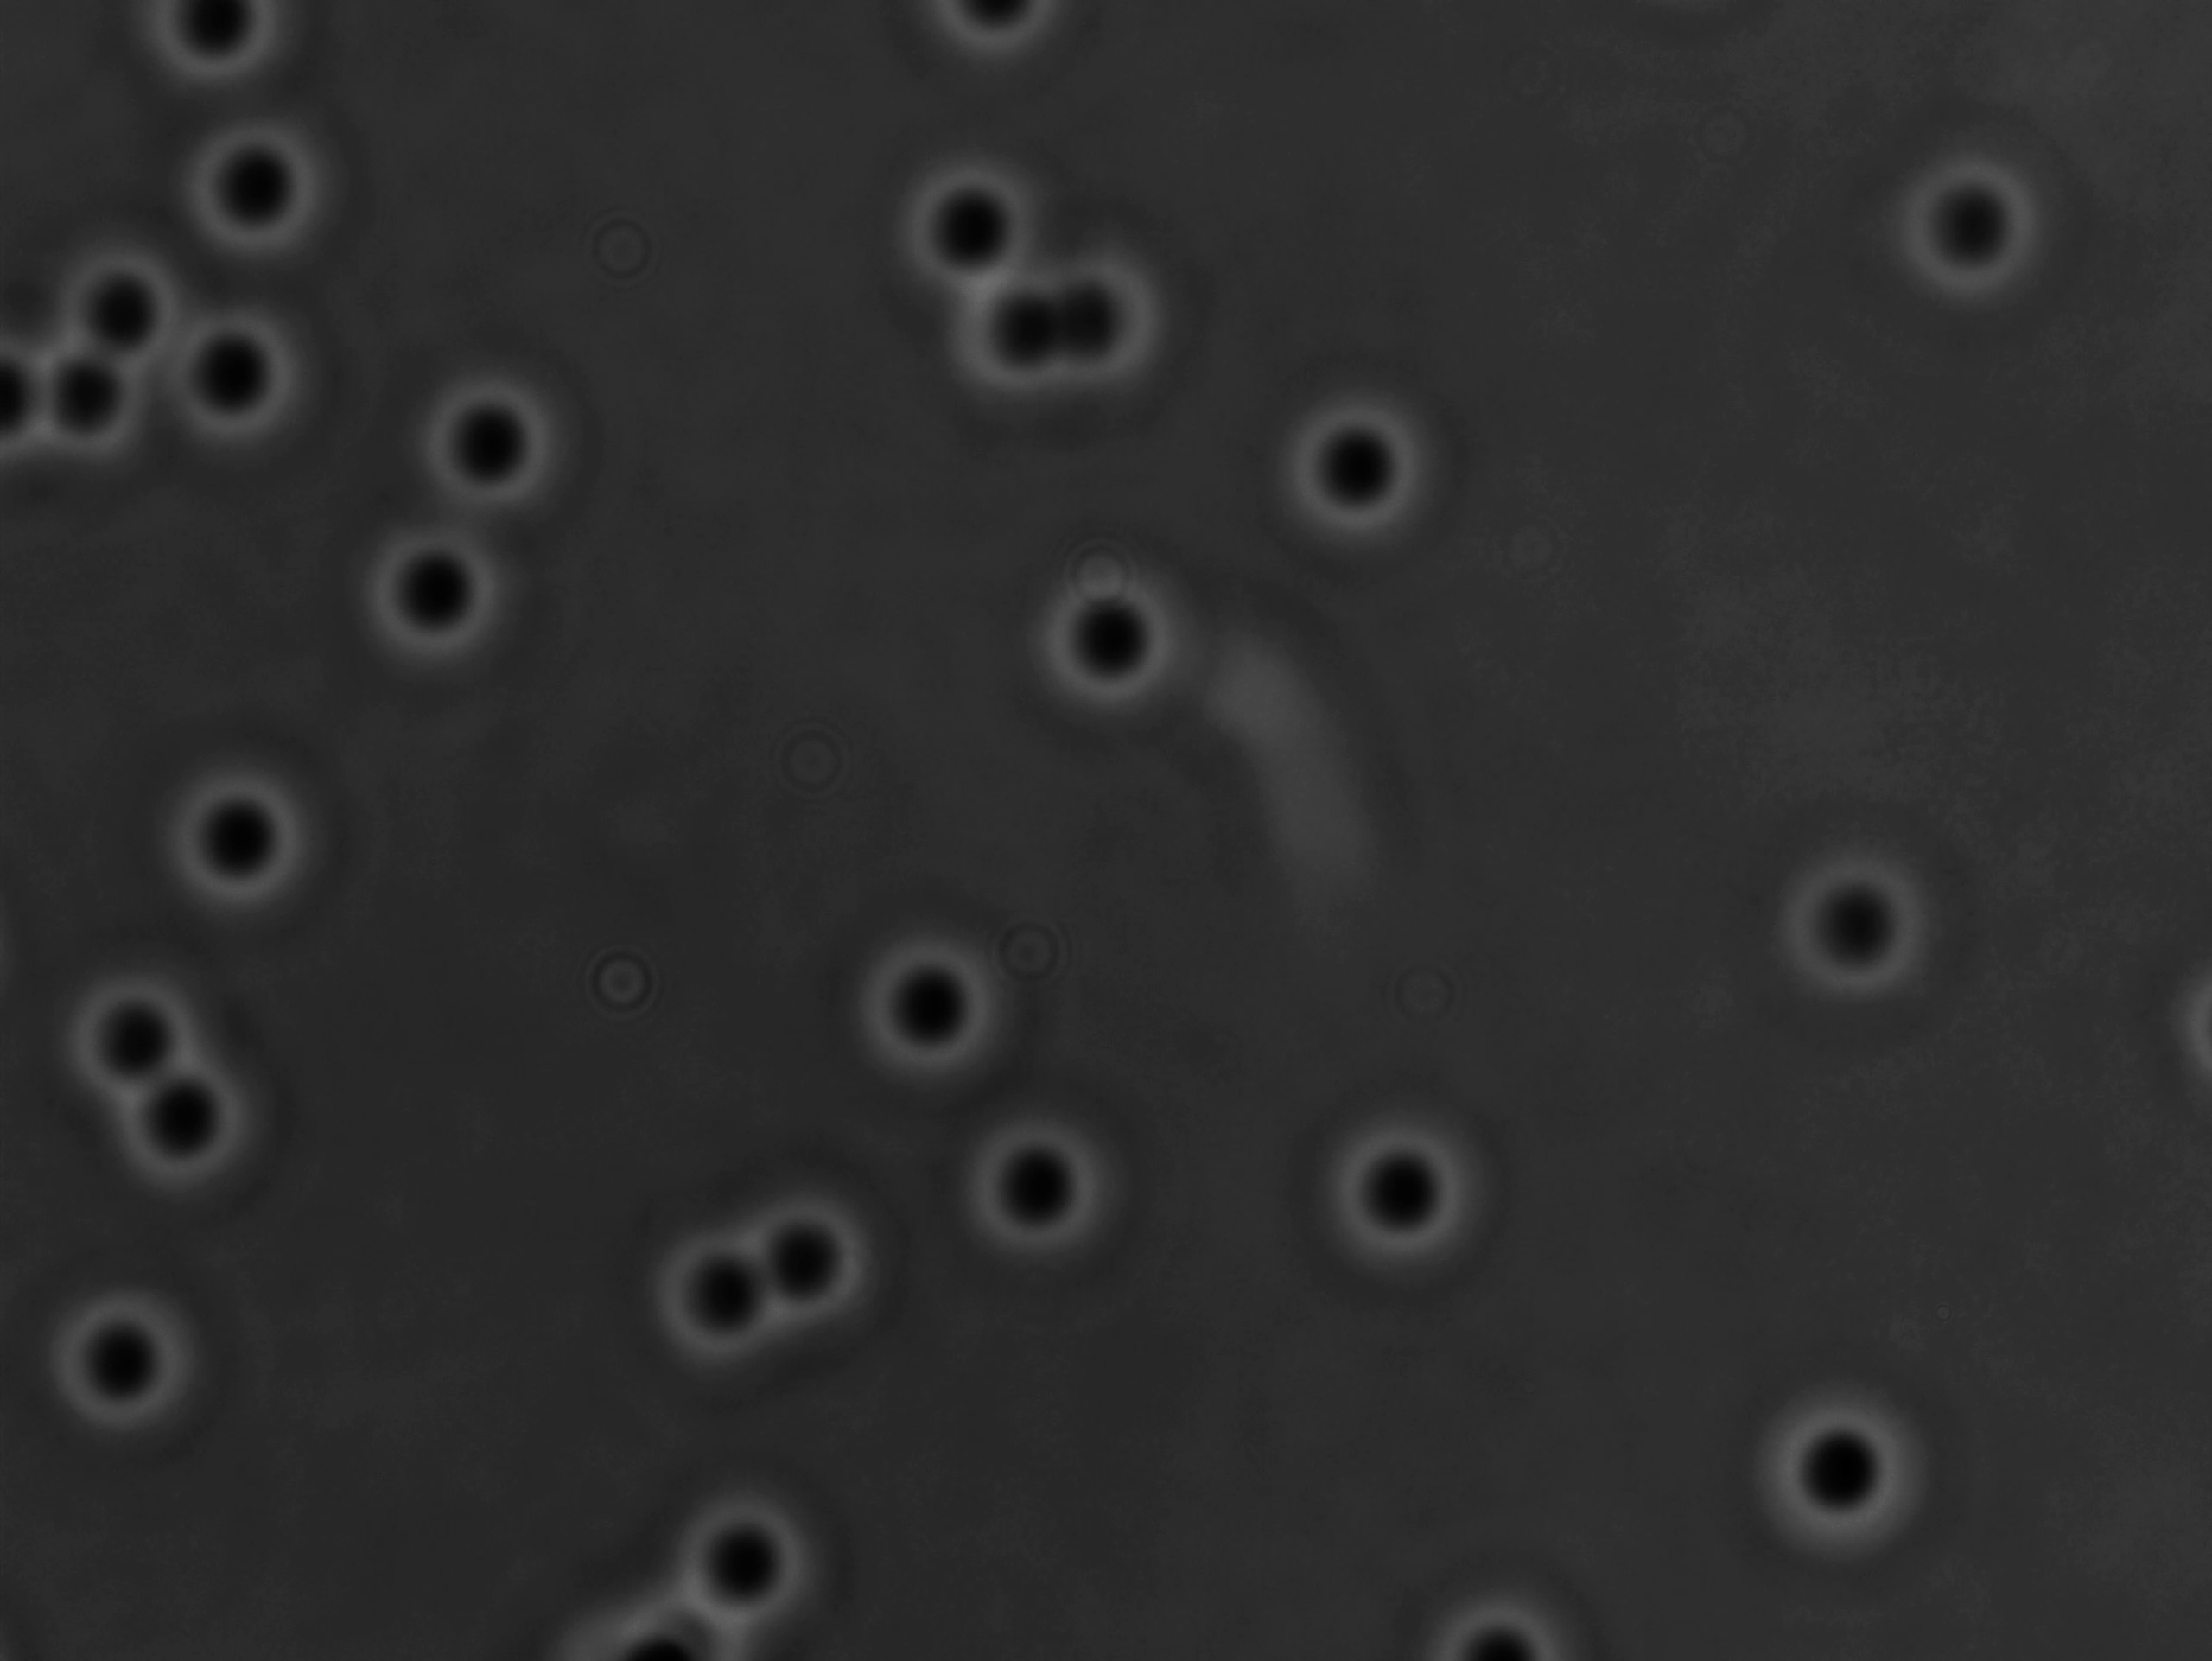depth:-80: (127, 276, 335, 478), (1755, 817, 1954, 1015), (1314, 1090, 1509, 1293), (1750, 1380, 1947, 1574), (155, 91, 352, 272), (818, 914, 1010, 1099), (1882, 127, 2079, 302), (37, 1282, 232, 1457), (145, 743, 330, 923), (1017, 550, 1204, 726), (1280, 389, 1465, 558), (963, 1096, 1150, 1261), (103, 1043, 284, 1211), (359, 508, 541, 673), (898, 143, 1075, 312), (42, 960, 223, 1120), (405, 366, 576, 520)
